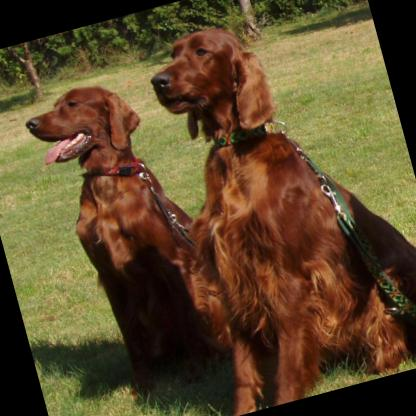Irish_setter: (127, 0, 416, 416), (17, 63, 236, 408)
